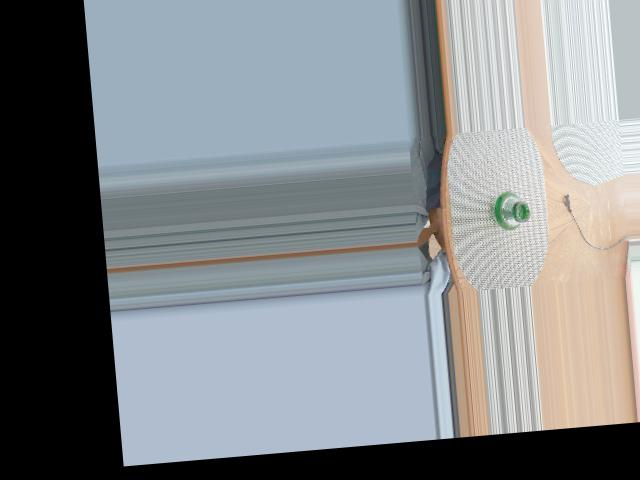beer: (488, 191, 530, 229)
